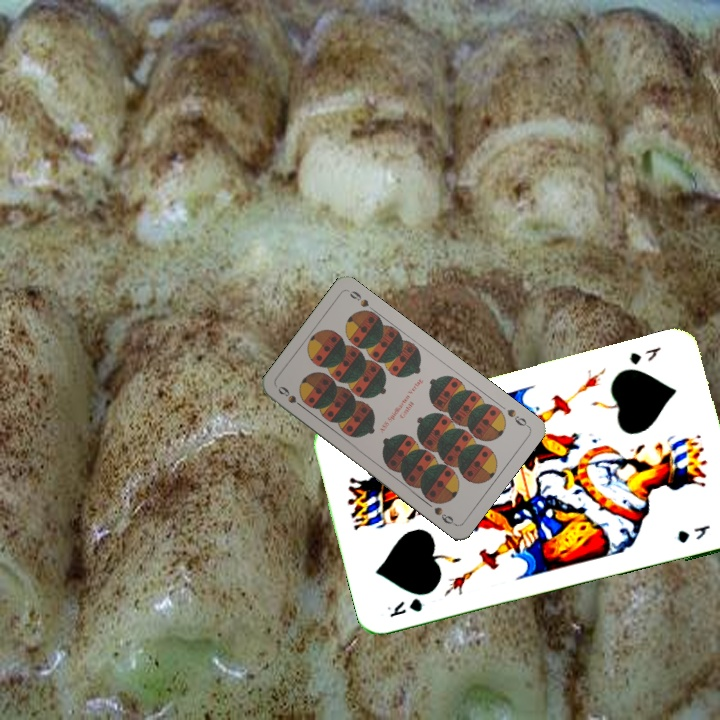GK: (383, 594, 428, 620), (625, 342, 664, 368)
S9: (274, 382, 308, 412), (503, 405, 531, 430)
